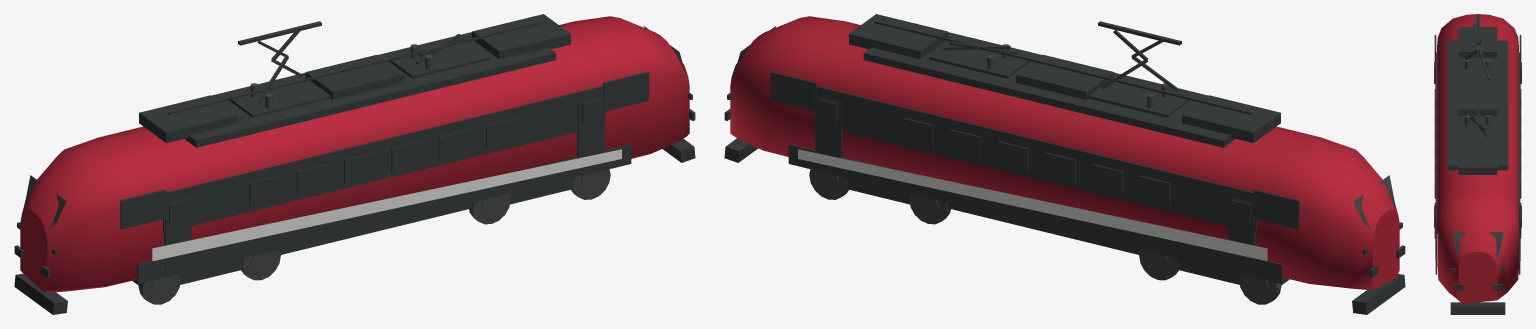
Rendered from railjet-nextgen-taurus.glb.
The picture shows the model from 3 angles, left to right: view 1: azimuth 30°, elevation 25°; view 2: azimuth 150°, elevation 25°; view 3: azimuth 270°, elevation 25°; orthographic projection. The views are drawn at different scales.
Visible parts, largest first — view 1: taurus_lofted_body, taurus_side_dark_band_-1, taurus_roof_spine, taurus_side_lower_panel_-1, taurus_light_sweep_-1, taurus_roof_cabinet_0, taurus_roof_cabinet_2, taurus_roof_cabinet_1, taurus_panto_raised_base, taurus_bogie_a, taurus_bogie_b, taurus_panto_folded_base (+17 smaller); view 2: taurus_lofted_body, taurus_side_dark_band_1, taurus_roof_spine, taurus_side_lower_panel_1, taurus_light_sweep_1, taurus_roof_cabinet_0, taurus_roof_cabinet_2, taurus_roof_cabinet_1, taurus_bogie_a, taurus_bogie_b, taurus_panto_raised_base, taurus_panto_folded_base (+15 smaller); view 3: taurus_lofted_body, taurus_roof_spine, taurus_roof_cabinet_2, taurus_roof_cabinet_1, taurus_roof_cabinet_0, taurus_panto_folded_base, taurus_cab_1_plough, taurus_panto_raised_base, taurus_side_dark_band_1, taurus_side_dark_band_-1, taurus_cab_1_windshield_mask, taurus_roof_bus (+4 smaller).
Part boxes in pixels (<box>): taurus_lofted_body: <box>20,16,689,292</box>; taurus_side_dark_band_-1: <box>163,86,605,232</box>; taurus_roof_spine: <box>185,32,556,147</box>; taurus_side_lower_panel_-1: <box>137,144,631,283</box>; taurus_light_sweep_-1: <box>152,149,621,261</box>; taurus_roof_cabinet_0: <box>139,95,237,142</box>; taurus_roof_cabinet_2: <box>472,14,570,59</box>; taurus_roof_cabinet_1: <box>305,54,404,99</box>; taurus_panto_raised_base: <box>229,80,330,117</box>; taurus_bogie_a: <box>138,249,280,304</box>; taurus_bogie_b: <box>469,169,610,224</box>; taurus_panto_folded_base: <box>389,41,490,78</box>; taurus_lofted_body: <box>730,16,1399,290</box>; taurus_side_dark_band_1: <box>814,86,1256,232</box>; taurus_roof_spine: <box>863,32,1234,147</box>; taurus_side_lower_panel_1: <box>788,144,1282,283</box>; taurus_light_sweep_1: <box>798,149,1267,261</box>; taurus_roof_cabinet_0: <box>1182,95,1280,142</box>; taurus_roof_cabinet_2: <box>849,14,947,59</box>; taurus_roof_cabinet_1: <box>1015,54,1114,99</box>; taurus_bogie_a: <box>1139,249,1281,304</box>; taurus_bogie_b: <box>809,169,950,224</box>; taurus_panto_raised_base: <box>1089,81,1190,117</box>; taurus_panto_folded_base: <box>929,42,1030,78</box>; taurus_lofted_body: <box>1437,14,1518,303</box>; taurus_roof_spine: <box>1447,40,1508,170</box>; taurus_roof_cabinet_2: <box>1458,142,1497,174</box>; taurus_roof_cabinet_1: <box>1458,85,1497,115</box>; taurus_roof_cabinet_0: <box>1458,27,1497,57</box>; taurus_panto_folded_base: <box>1461,117,1494,142</box>; taurus_cab_1_plough: <box>1450,302,1505,314</box>; taurus_panto_raised_base: <box>1461,61,1494,84</box>; taurus_side_dark_band_1: <box>1518,52,1519,233</box>; taurus_side_dark_band_-1: <box>1436,52,1437,233</box>; taurus_cab_1_windshield_mask: <box>1452,232,1503,255</box>; taurus_roof_bus: <box>1477,52,1478,160</box>.
Size of the model in its own units: 19.43 by 6.38 by 3.21.
